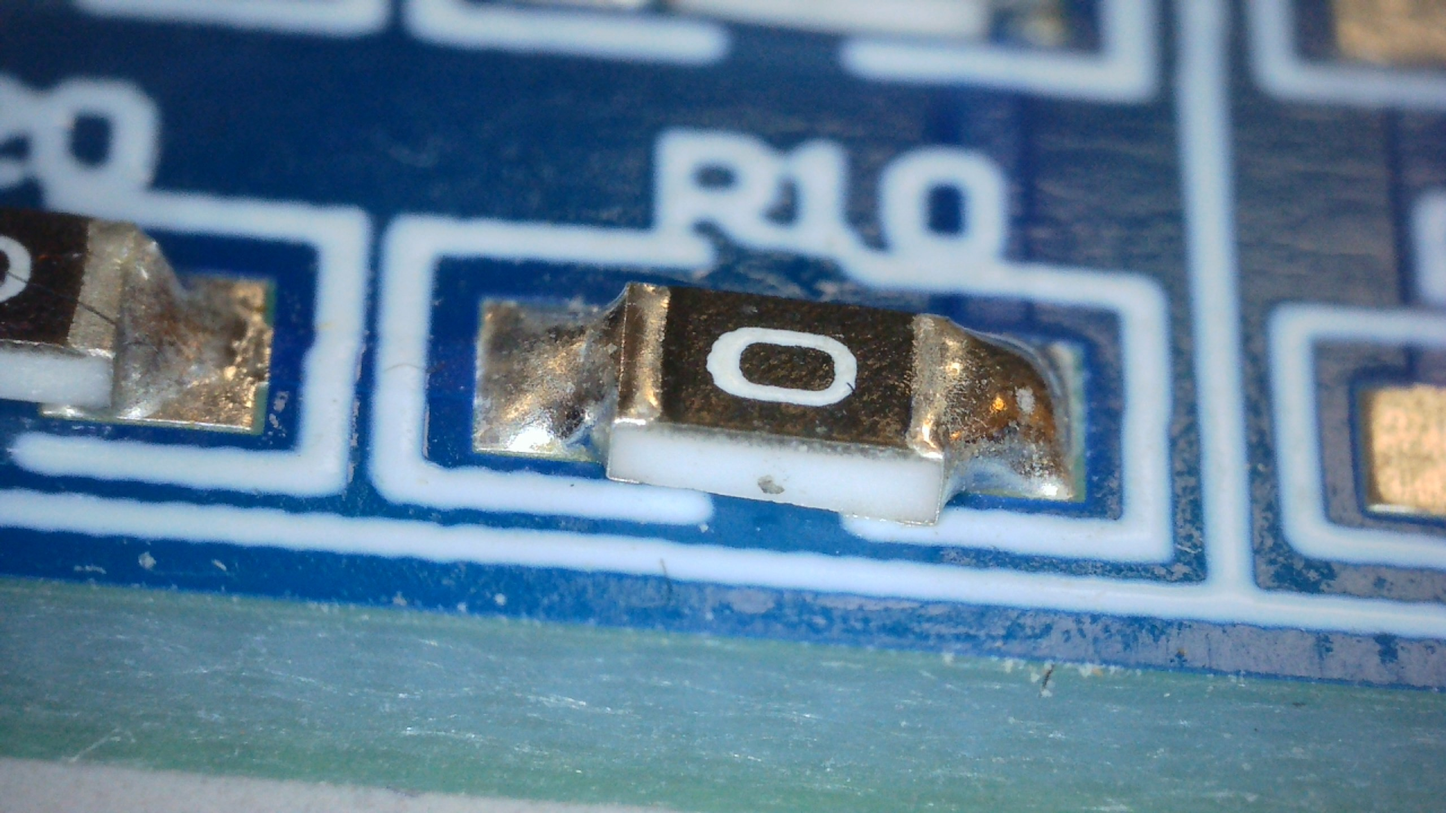NG: (907, 314, 1074, 505)
OK: (479, 282, 665, 456)
